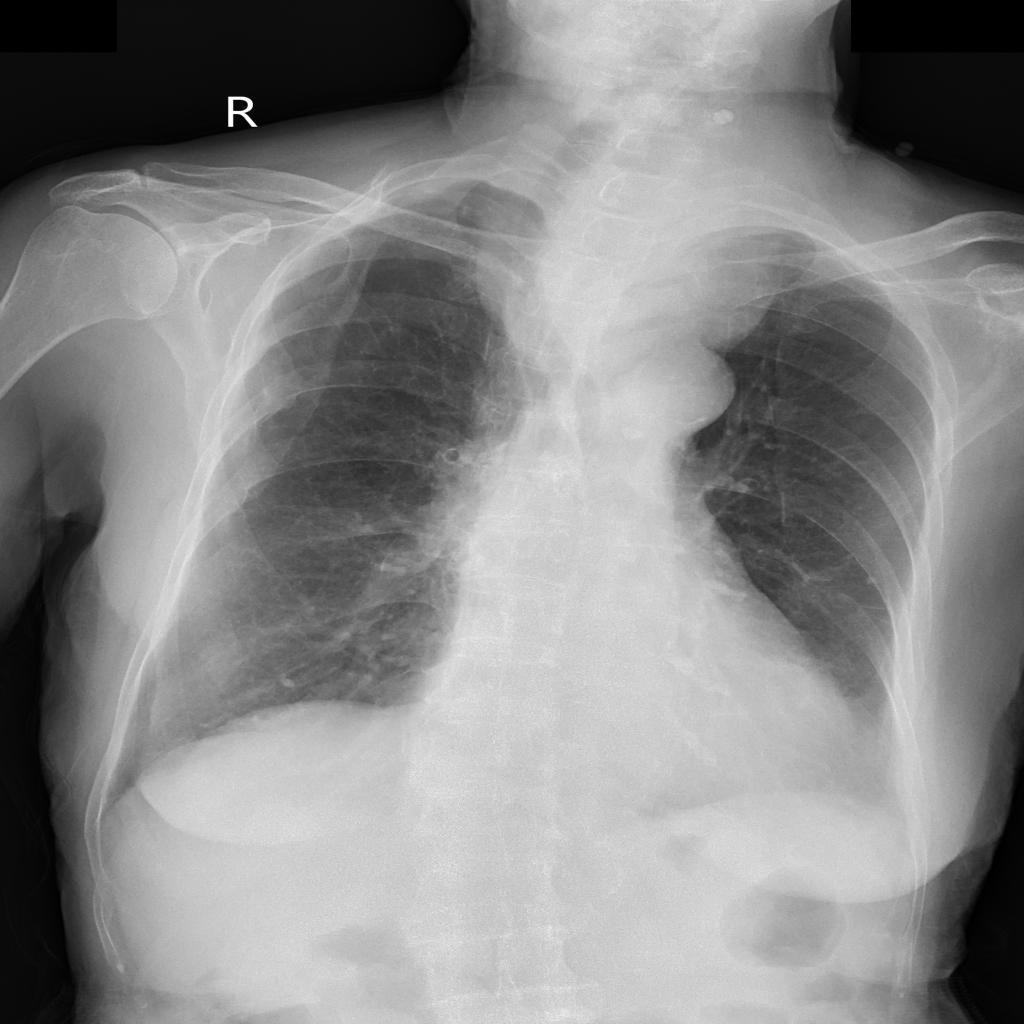Nodule: (680, 224, 788, 352)
